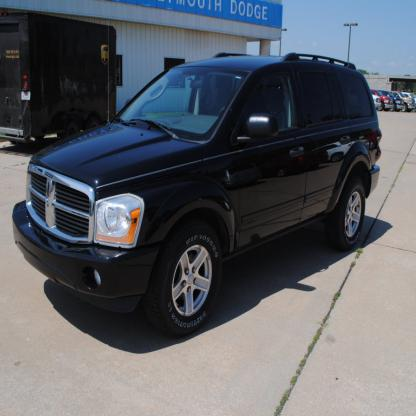Vehicle: (4, 42, 393, 366)
